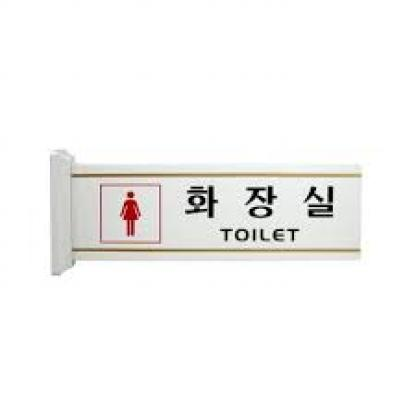toilet: (121, 189, 143, 237)
